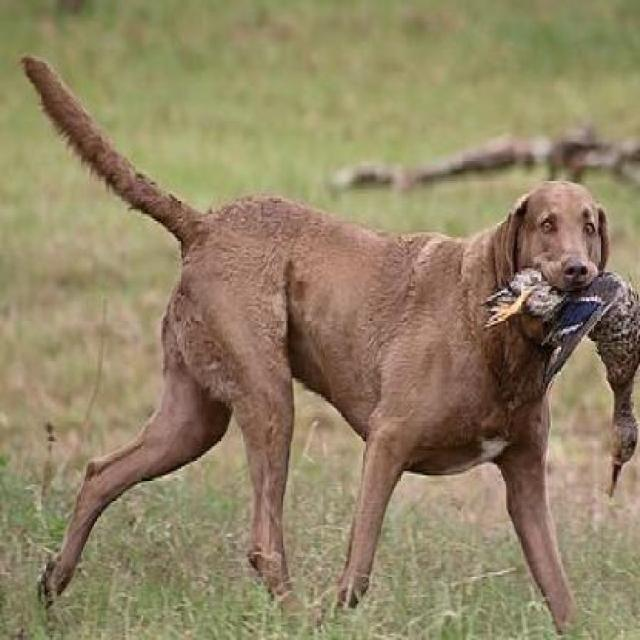Dog: (15, 52, 617, 638)
